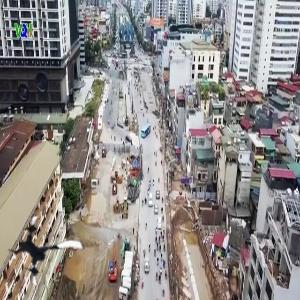drone: (7, 213, 87, 293)
